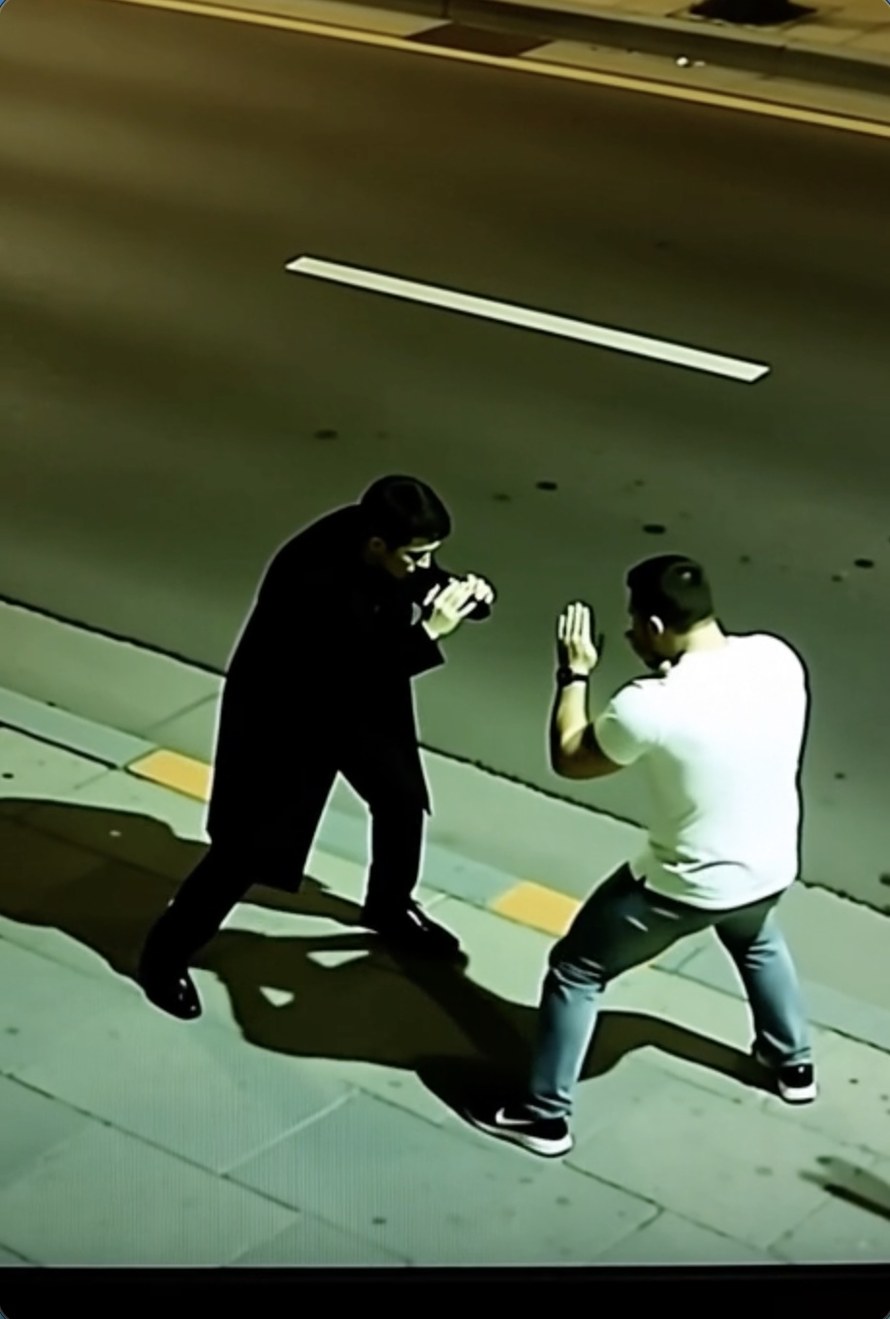Assault: (470, 553, 820, 1157)
Fighting: (133, 474, 496, 1022)
